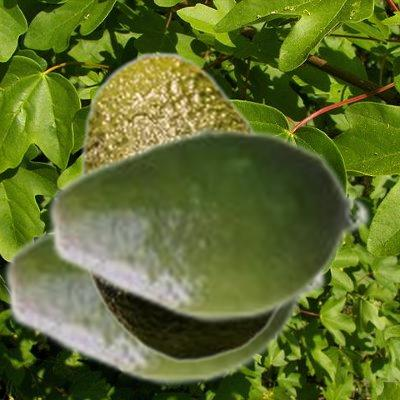avocado: (45, 123, 371, 324), (76, 51, 283, 361), (1, 225, 327, 387)
